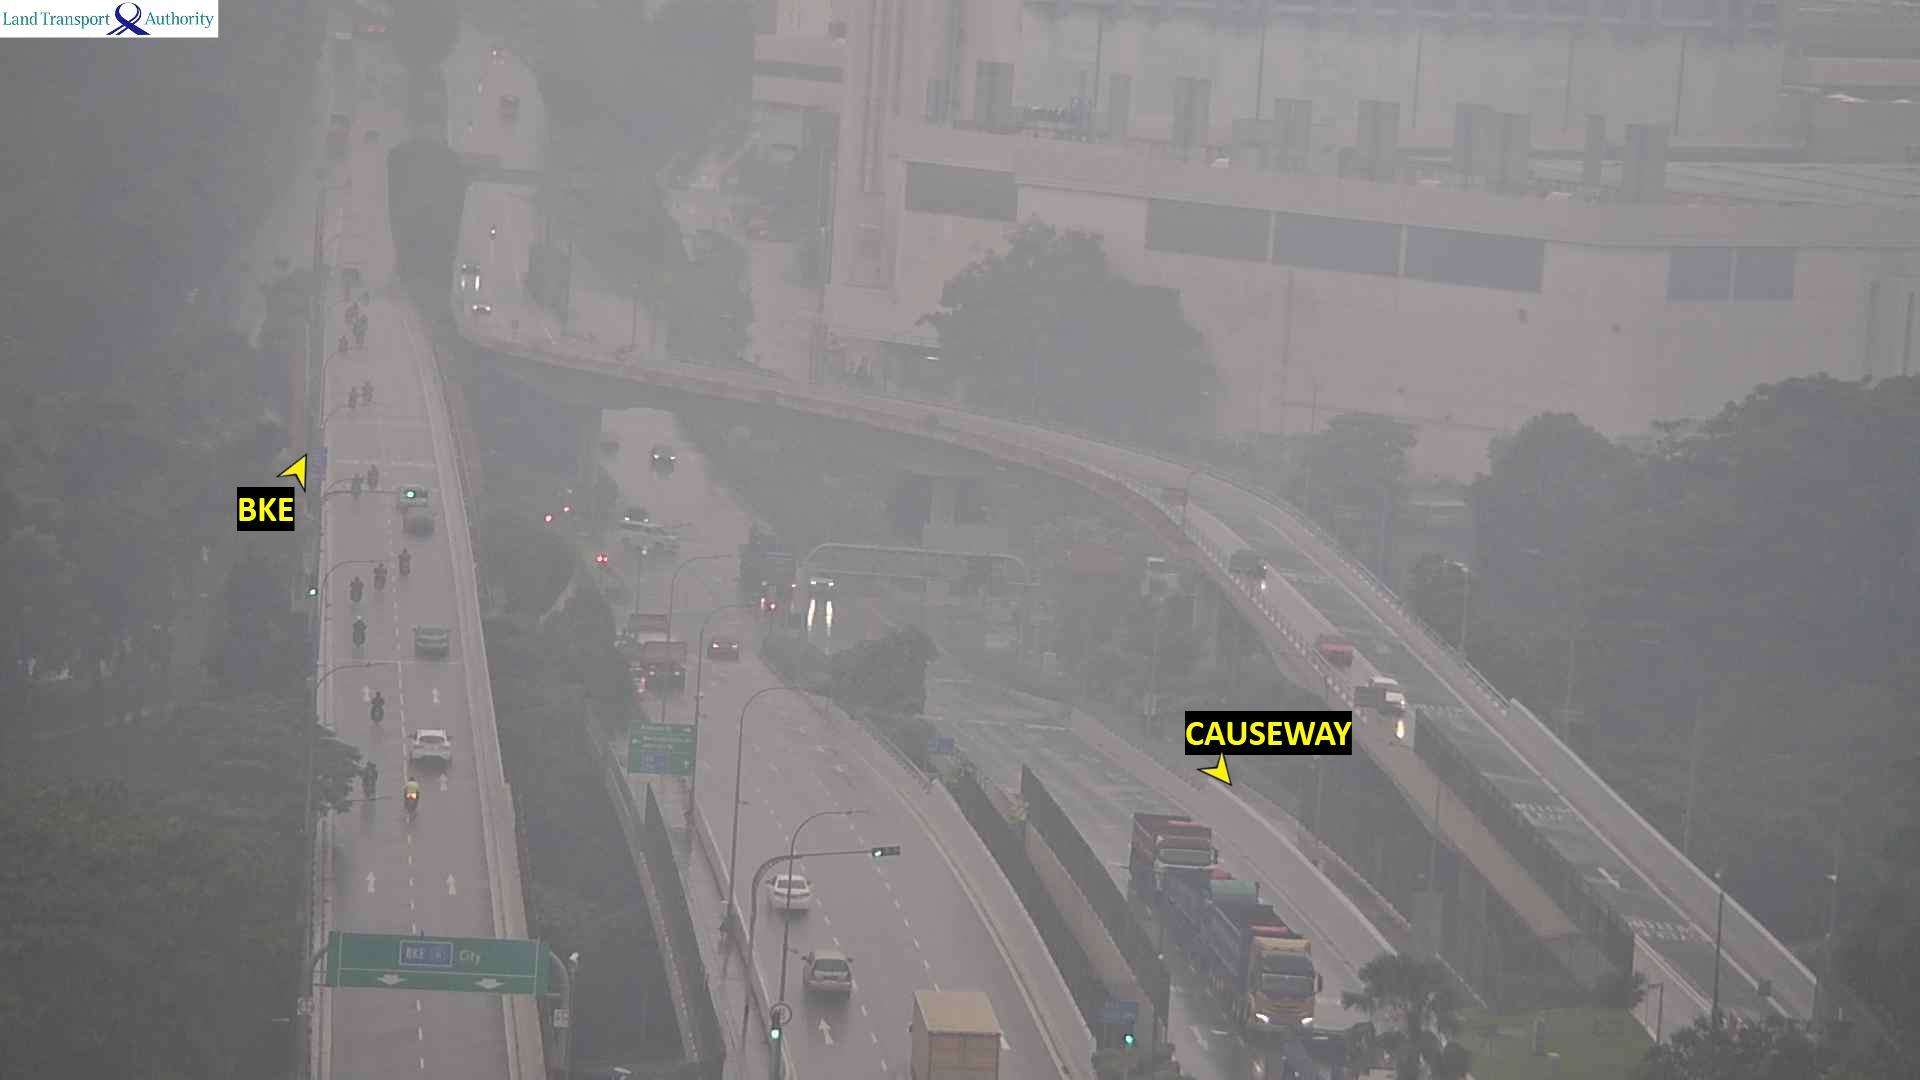vehicle-causeway-johor: (1221, 908, 1326, 1015), (1131, 810, 1224, 873), (644, 642, 688, 688), (1368, 677, 1403, 714), (1317, 634, 1352, 665), (1230, 548, 1265, 577), (650, 442, 675, 472), (463, 259, 480, 278), (473, 303, 493, 317), (490, 223, 497, 236)
vehicle-causeway-singapore: (912, 990, 1004, 1078), (802, 952, 854, 997), (768, 874, 808, 910), (416, 628, 449, 660), (413, 750, 447, 775), (402, 510, 435, 533), (415, 730, 447, 748), (709, 641, 736, 661), (406, 789, 425, 814), (360, 382, 379, 405), (358, 618, 376, 641), (365, 692, 377, 723), (362, 765, 377, 789), (351, 577, 362, 601), (401, 548, 410, 574), (376, 566, 385, 591), (358, 319, 367, 338), (350, 385, 358, 406), (353, 471, 360, 494), (337, 335, 344, 351), (371, 463, 376, 483)
